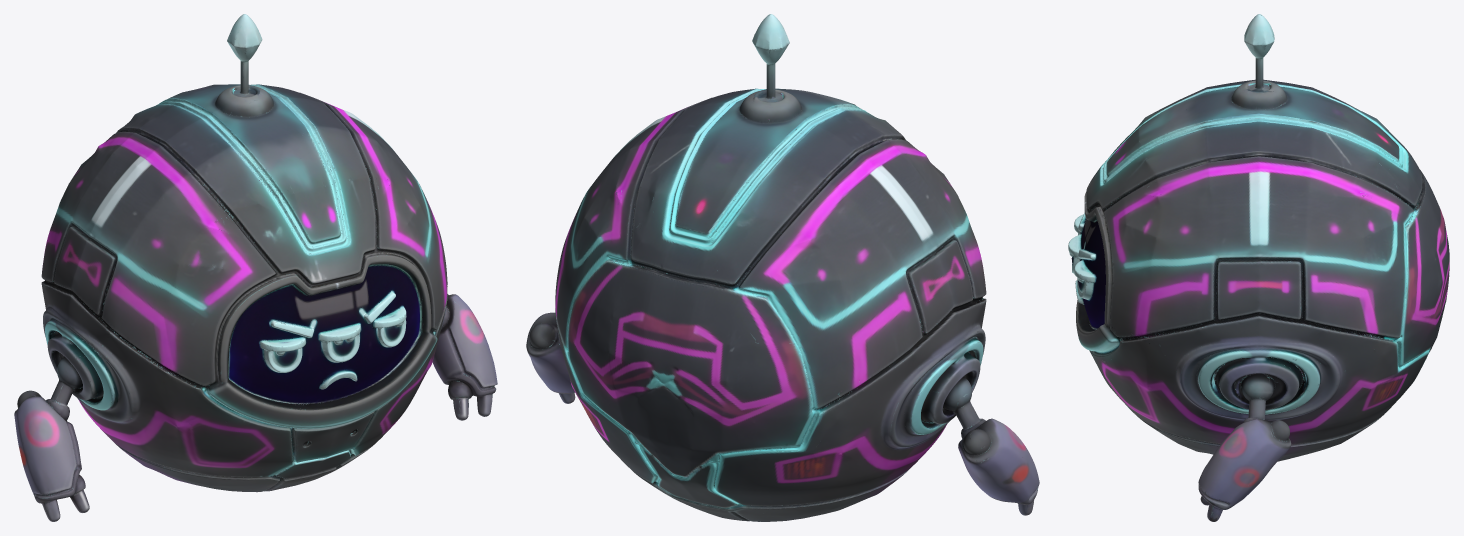
The model's file is Meshy_AI_Galactic_Grumpbot_0209103654_texture.fbx.
3 renders of one model, left to right at view 1: azimuth 30°, elevation 25°; view 2: azimuth 150°, elevation 25°; view 3: azimuth 270°, elevation 25°, orthographic. The views are drawn at different scales.
Visible parts, largest first — view 1: Mesh_0; view 2: Mesh_0; view 3: Mesh_0.
Part boxes in pixels (<box>): Mesh_0: <box>14,14,497,521</box>; Mesh_0: <box>526,14,1039,521</box>; Mesh_0: <box>1068,14,1449,521</box>.
Size of the model in its own units: 200 by 189 by 153.
1 material, 1 textured.
